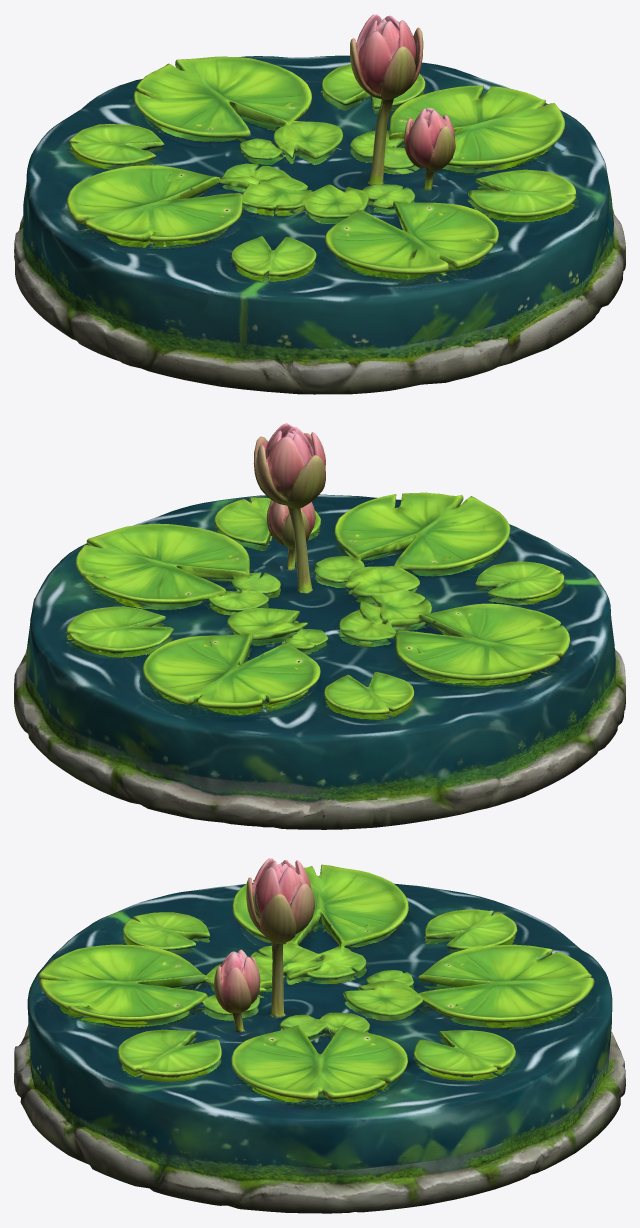
Rendered from Lotus_Pond.fbx.
3 views of the same model, one above another, from view 1: azimuth 30°, elevation 25°; view 2: azimuth 150°, elevation 25°; view 3: azimuth 270°, elevation 25° (orthographic).
Parts seen in each view (by area): view 1: Lotus_Pond_LOD0; view 2: Lotus_Pond_LOD0; view 3: Lotus_Pond_LOD0.
Boxes of the visible parts, box(x1,y1,x2,y2) form: Lotus_Pond_LOD0: box(14, 14, 625, 394); Lotus_Pond_LOD0: box(14, 423, 625, 829); Lotus_Pond_LOD0: box(14, 858, 625, 1213).
Size of what is drawn, in the model's own units: 1.89 by 0.8404 by 1.9.
Materials: 1 (1 with a texture image).
